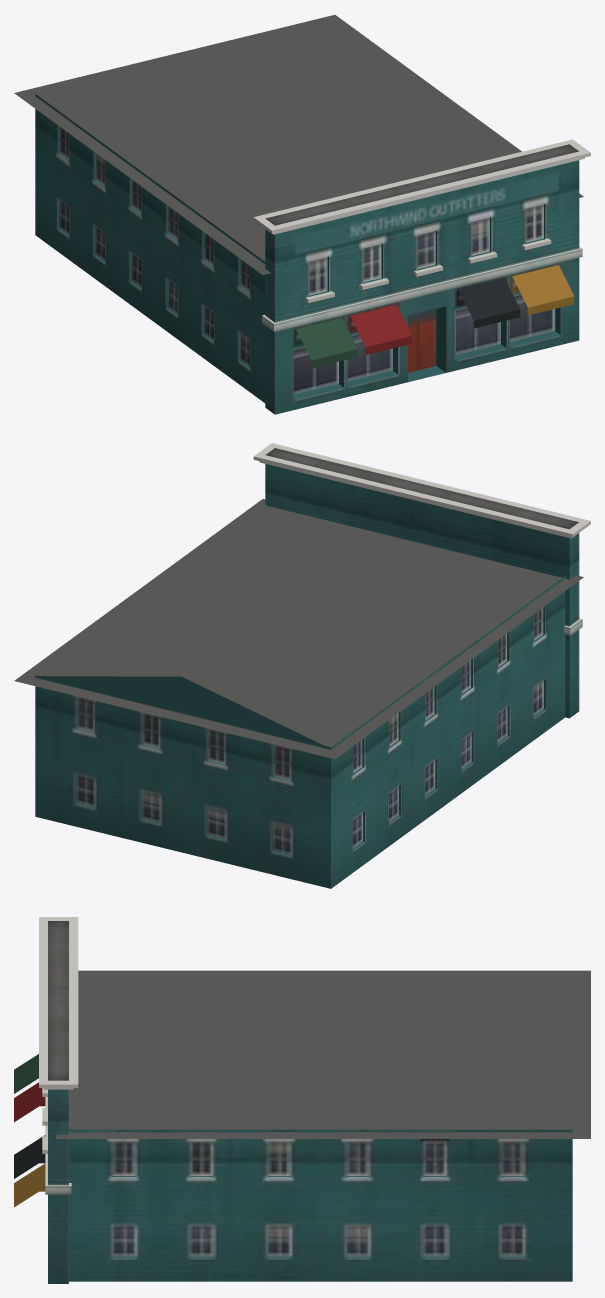
The model's file is seattle_low_d.glb.
3 renders of one model, top to bottom at view 1: azimuth 30°, elevation 25°; view 2: azimuth 150°, elevation 25°; view 3: azimuth 270°, elevation 25°, orthographic. The views are drawn at different scales.
Visible parts, largest first — view 1: seattle_low_d; view 2: seattle_low_d; view 3: seattle_low_d.
Part boxes in pixels (bbox=[...]): seattle_low_d: bbox=[14, 15, 590, 414]; seattle_low_d: bbox=[14, 443, 590, 888]; seattle_low_d: bbox=[14, 917, 590, 1283].
Bounding box in the file's own units: 15.2 × 8.55 × 22.
Materials: 1 (1 with a texture image).
